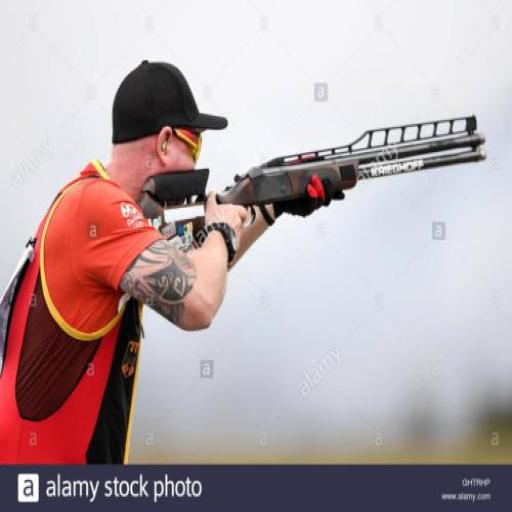shooting: (0, 57, 342, 466)
